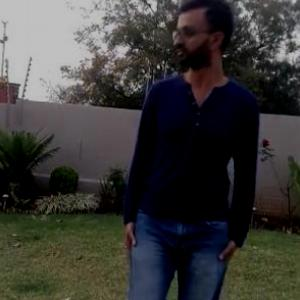follow: (115, 0, 257, 299), (12, 6, 134, 299)
